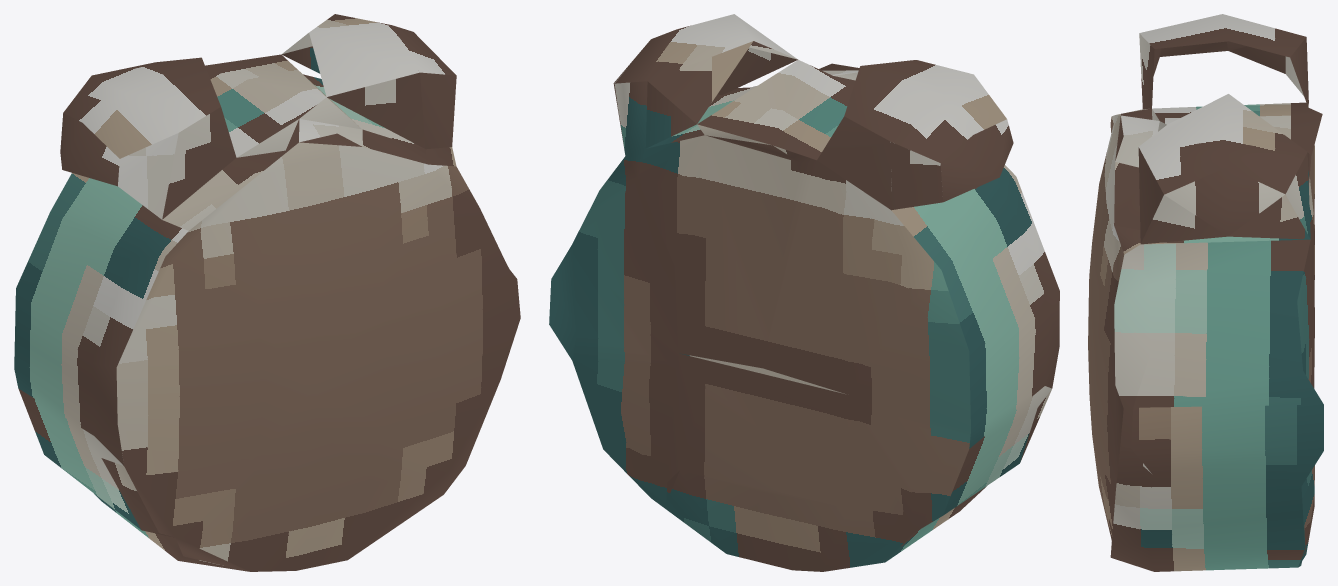
The model's file is alarm_clock_01.glb.
3 views of the same model, side by side, from view 1: azimuth 30°, elevation 25°; view 2: azimuth 150°, elevation 25°; view 3: azimuth 270°, elevation 25° (orthographic).
Visible parts, largest first — view 1: mesh; view 2: mesh; view 3: mesh.
Part boxes in pixels (left/top/right/bottom): mesh: left=14, top=14, right=520, bottom=571; mesh: left=549, top=14, right=1059, bottom=571; mesh: left=1088, top=14, right=1323, bottom=571.
Size of the model in its own units: 0.155 by 0.1742 by 0.0779.
1 material, 1 textured.
